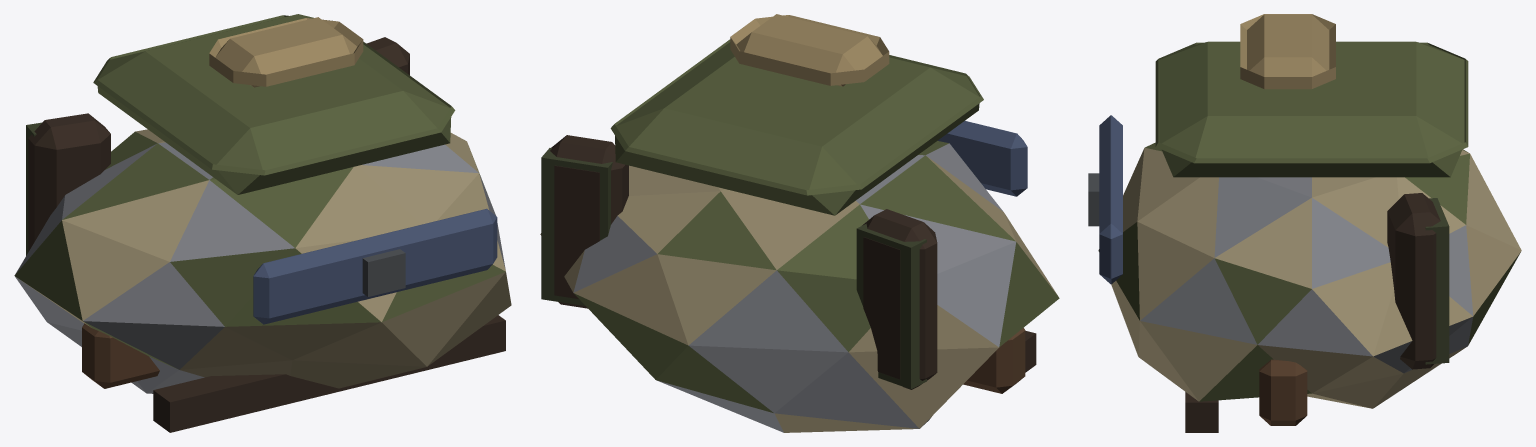
File: loot_bag.fbx
The picture shows the model from 3 angles, left to right: view 1: azimuth 30°, elevation 25°; view 2: azimuth 150°, elevation 25°; view 3: azimuth 270°, elevation 25°; orthographic projection. The views are drawn at different scales.
Visible parts, largest first — view 1: loot_bag; view 2: loot_bag; view 3: loot_bag.
Part boxes in pixels (<box>): loot_bag: <box>14,14,511,432</box>; loot_bag: <box>540,14,1059,432</box>; loot_bag: <box>1088,14,1521,432</box>.
Bounding box in the file's own units: 0.5355 × 0.3873 × 0.4533.
